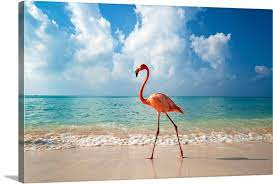Walking: (131, 51, 199, 171)
